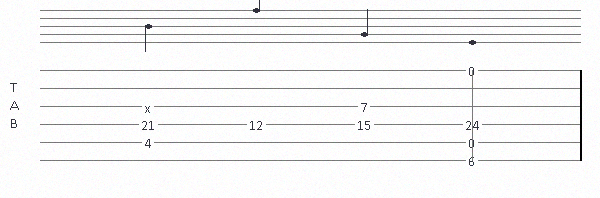0: (468, 136, 479, 149), (468, 64, 479, 77)
12: (249, 118, 267, 131)
15: (357, 118, 375, 131)
21: (141, 118, 159, 131)
24: (465, 118, 483, 131)
4: (144, 136, 155, 149)
6: (468, 154, 479, 167)
7: (360, 100, 371, 113)
x: (144, 101, 155, 112)
